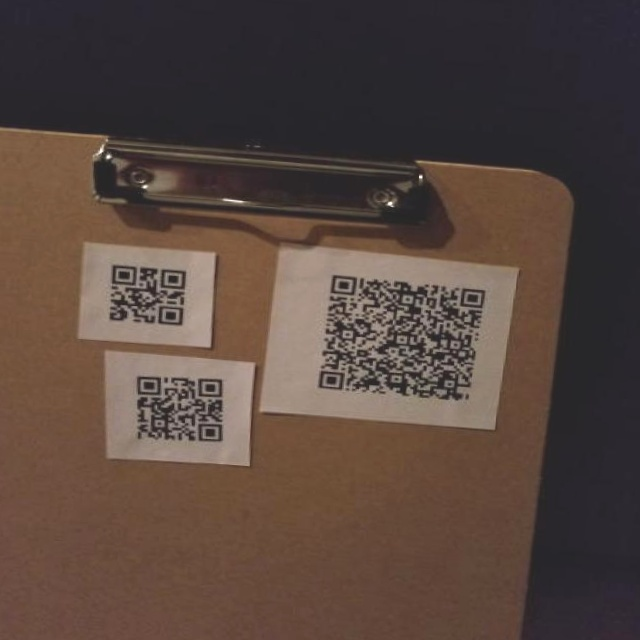qr-code: (300, 258, 504, 414), (115, 361, 243, 458), (94, 251, 204, 336)
